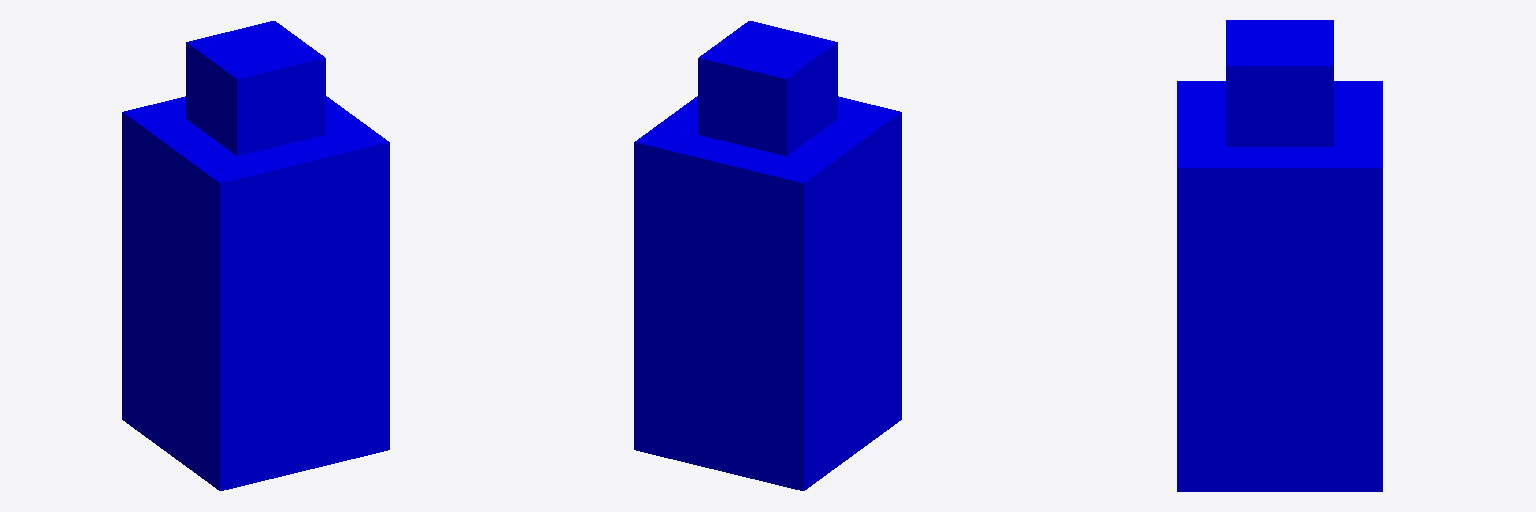
URDF robot description (bolt.urdf):
<?xml version="0.0" ?>
<robot name="bolt.urdf">
  <link name="base">
    <visual>
      <origin rpy="0 0 0" xyz="0 0 0.04"/>
      <geometry>
        <box size=".046 .046 0.08"/>
      </geometry>
      <material name="blue">
      </material>
    </visual>
    <collision>
      <origin rpy="0 0 0" xyz="0 0 0.04"/>
      <geometry>
        <box size=".046 .046 0.08"/>
      </geometry>
    </collision>
  </link>
  <joint name="joint1" type="revolute">
    <origin rpy="0 0 0" xyz="0 0 0.08"/>
    <parent link="base"/>
    <child link="top"/>
    <axis xyz="0 0 1"/>
    <limit effort="10" lower="-3.1415" upper="3.1415" velocity="2.1750"/>
  </joint>
  <link name="top">
    <visual>
      <origin rpy="0 0 0" xyz="0 0 0.01"/>
      <geometry>
        <box size=".024 .024 0.02"/>
      </geometry>
      <material name="blue">
      </material>
    </visual>
    <collision>
      <origin rpy="0 0 0" xyz="0 0 0.01"/>
      <geometry>
        <box size=".024 .024 0.02"/>
      </geometry>
    </collision>
  </link>

  <material name="panda_white">
    <color rgba="1. 1. 1. 1."/>
  </material>
  <material name="red">
    <color rgba="1.0 0. 0. 1.0"/>
  </material>
  <material name="blue">
    <color rgba="0. 0. 1. 1.0"/>
  </material>
  <material name="green">
    <color rgba="0. 1. 0. 1.0"/>
  </material>

</robot>

--- Render facts (derived) ---
3 views of the same robot in one strip: view 1: azimuth 30°, elevation 25°; view 2: azimuth 150°, elevation 25°; view 3: azimuth 270°, elevation 25° (orthographic).
Robot: bolt.urdf — 2 links, 1 joints (1 revolute); root link base; default pose: every joint at zero.
Links seen in each view (by area): view 1: base, top; view 2: base, top; view 3: base, top.
Boxes of the visible links, x1,y1,x2,y2 form: base: (122,96,389,490); top: (186,21,325,155); base: (634,96,901,490); top: (698,21,837,155); base: (1177,81,1382,491); top: (1226,20,1333,146).
Bounding box of the posed robot: 0.046 × 0.046 × 0.1 m (x, y, z).
Geometry: primitives only (box / cylinder / sphere), no mesh files.